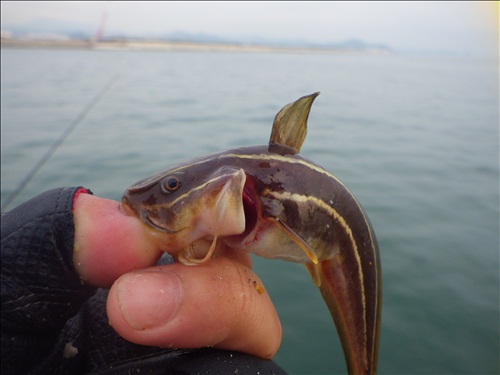gonzui: (138, 130, 413, 372)
